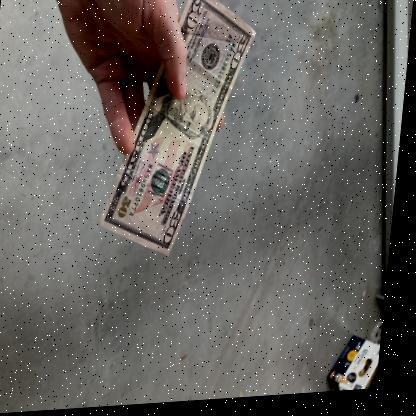fifty-front: (101, 0, 255, 256)
